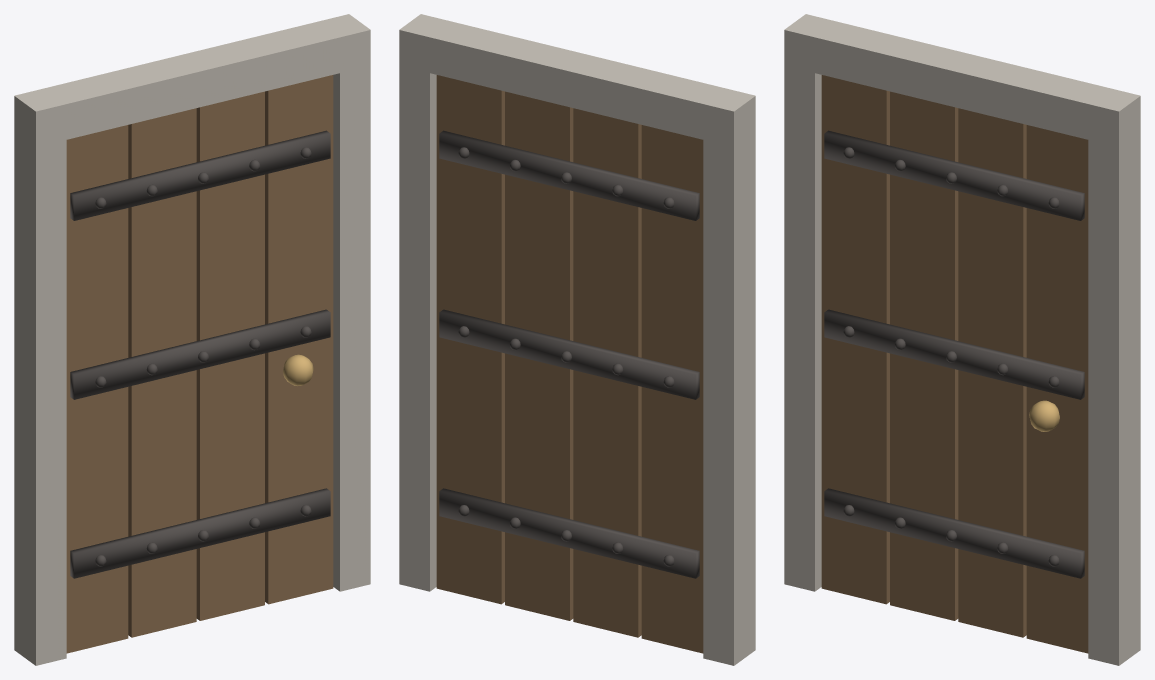
Rendered from door.glb.
The picture shows the model from 3 angles, left to right: view 1: azimuth 30°, elevation 25°; view 2: azimuth 150°, elevation 25°; view 3: azimuth 330°, elevation 25°; orthographic projection.
Visible parts, largest first — view 1: planks, frame, bands, knob; view 2: planks, frame, bands; view 3: planks, frame, bands, knob.
Part boxes in pixels (x1=…): planks: x1=66, y1=75, x2=333, y2=653; frame: x1=14, y1=14, x2=370, y2=665; bands: x1=70, y1=130, x2=330, y2=578; knob: x1=283, y1=354, x2=313, y2=385; planks: x1=436, y1=75, x2=703, y2=653; frame: x1=399, y1=14, x2=755, y2=665; bands: x1=439, y1=130, x2=699, y2=578; planks: x1=821, y1=75, x2=1088, y2=653; frame: x1=784, y1=14, x2=1140, y2=665; bands: x1=824, y1=130, x2=1084, y2=578; knob: x1=1029, y1=400, x2=1059, y2=431.
Size of the model in its own units: 1.96 by 3.1 by 0.34.
